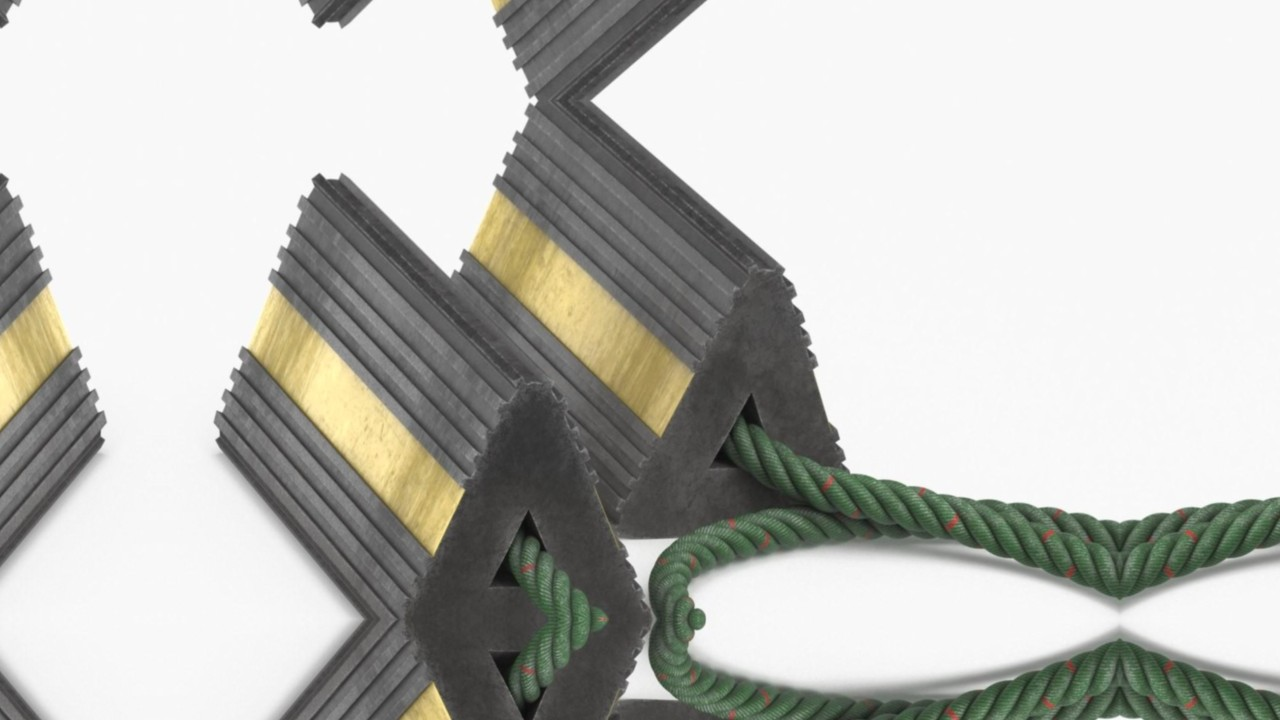chock: (160, 144, 695, 620), (408, 101, 924, 572), (0, 144, 160, 620), (160, 619, 695, 720), (408, 0, 924, 101), (160, 0, 695, 57), (408, 667, 924, 720)
